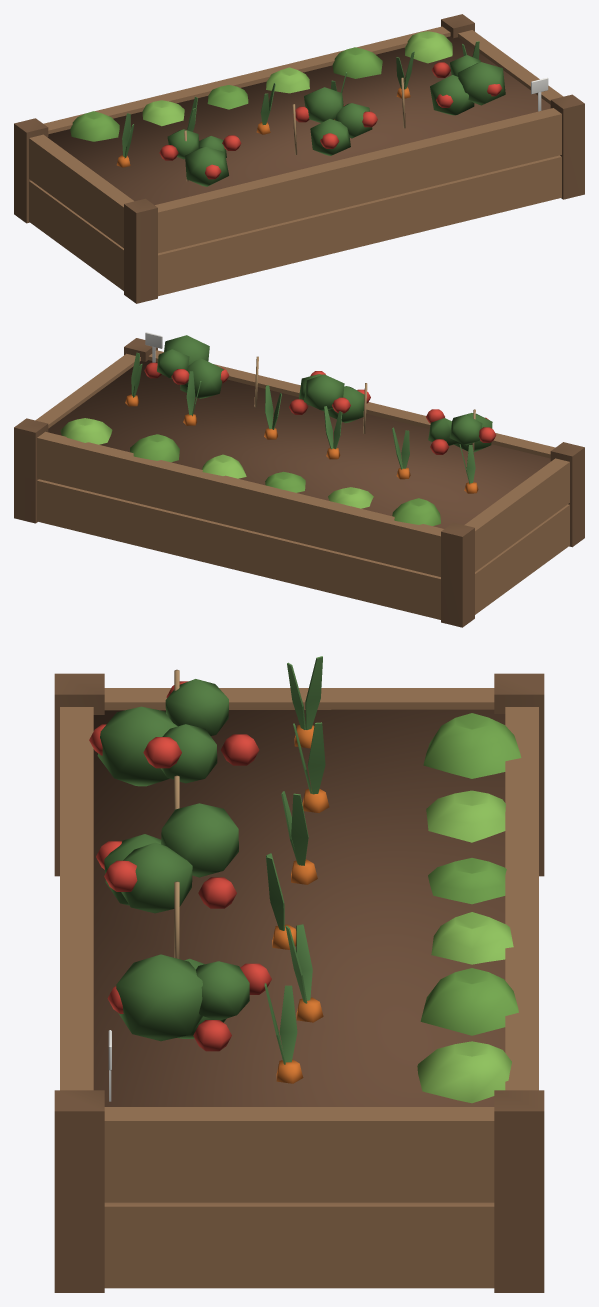
The model's file is raisedBed.far.glb.
3 renders of one model, top to bottom at view 1: azimuth 30°, elevation 25°; view 2: azimuth 150°, elevation 25°; view 3: azimuth 270°, elevation 25°, orthographic. The views are drawn at different scales.
Visible parts, largest first — view 1: raisedBed; view 2: raisedBed; view 3: raisedBed.
Part boxes in pixels (x1=…): raisedBed: x1=14, y1=14, x2=584, y2=303; raisedBed: x1=14, y1=332, x2=584, y2=627; raisedBed: x1=54, y1=656, x2=544, y2=1292.
Size of the model in its own units: 1.86 by 0.5373 by 0.88.
